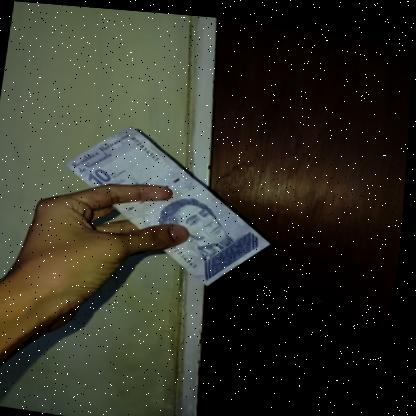ten-front-vef: (55, 116, 287, 289)
